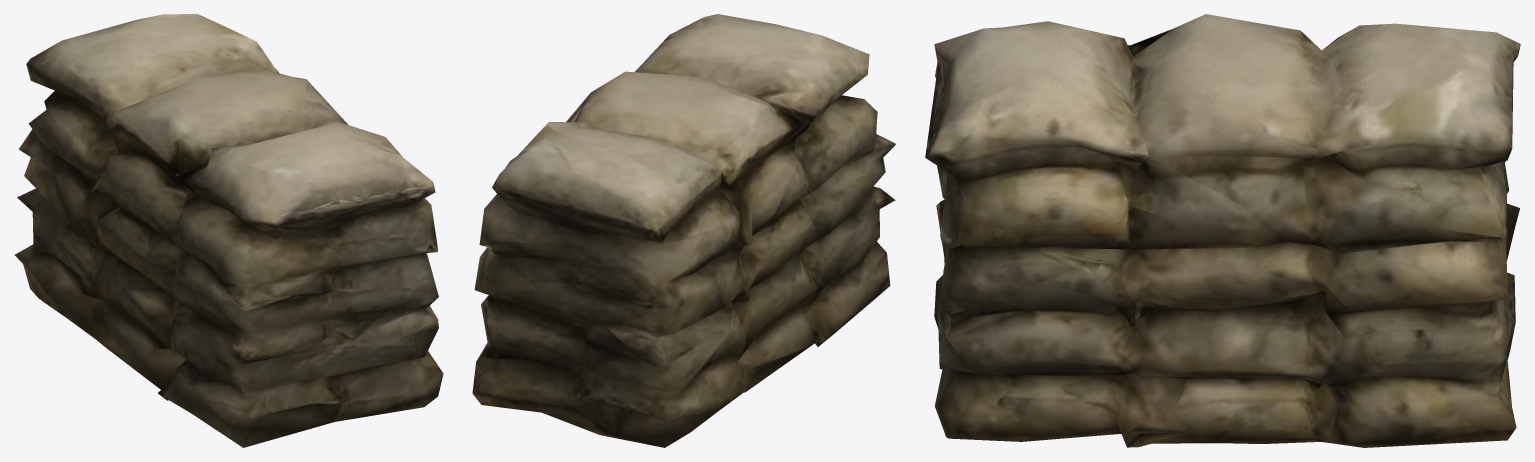
The model's file is e_sandbags.glb.
3 views of the same model, side by side, from view 1: azimuth 30°, elevation 25°; view 2: azimuth 150°, elevation 25°; view 3: azimuth 270°, elevation 25° (orthographic). The views are drawn at different scales.
Parts seen in each view (by area): view 1: tripo_node_f388a4c2-1231-4b7d-a6de-ed4fc382b63f; view 2: tripo_node_f388a4c2-1231-4b7d-a6de-ed4fc382b63f; view 3: tripo_node_f388a4c2-1231-4b7d-a6de-ed4fc382b63f.
Boxes of the visible parts, x1,y1,x2,y2 form: tripo_node_f388a4c2-1231-4b7d-a6de-ed4fc382b63f: [15, 14, 443, 447]; tripo_node_f388a4c2-1231-4b7d-a6de-ed4fc382b63f: [472, 14, 895, 447]; tripo_node_f388a4c2-1231-4b7d-a6de-ed4fc382b63f: [925, 14, 1520, 447].
Bounding box in the file's own units: 0.5657 × 0.621 × 1.
1 material, 1 textured.
